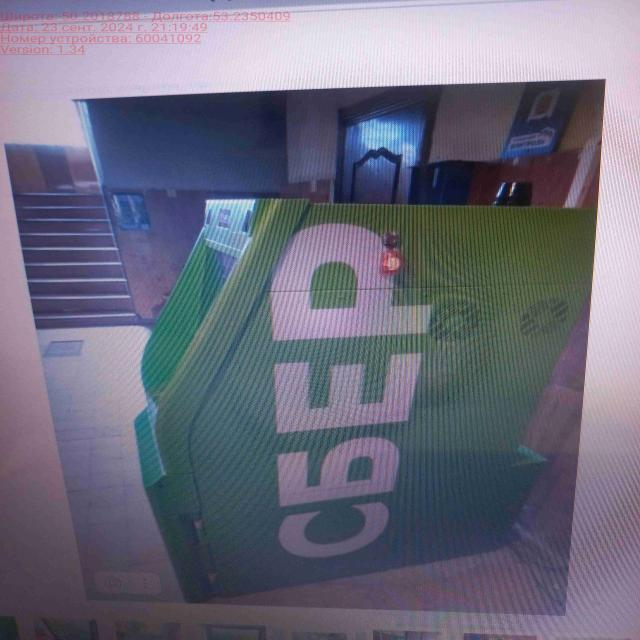bank: (135, 190, 593, 601)
